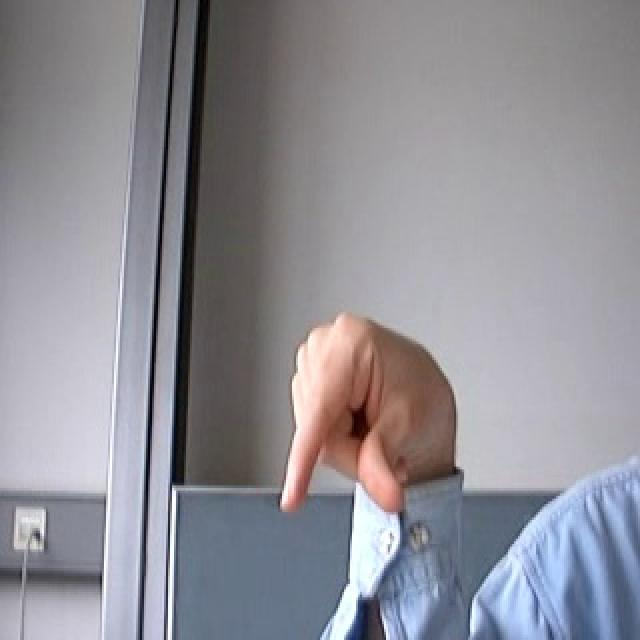Q: (221, 271, 490, 565)
